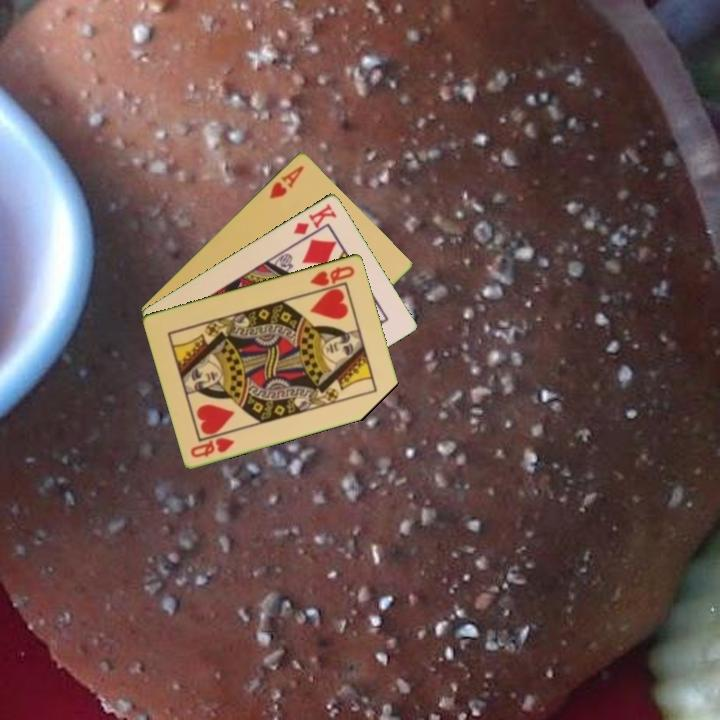Ah: (266, 162, 307, 201)
Kd: (290, 200, 339, 237)
Qh: (307, 262, 358, 289), (187, 433, 238, 460)
